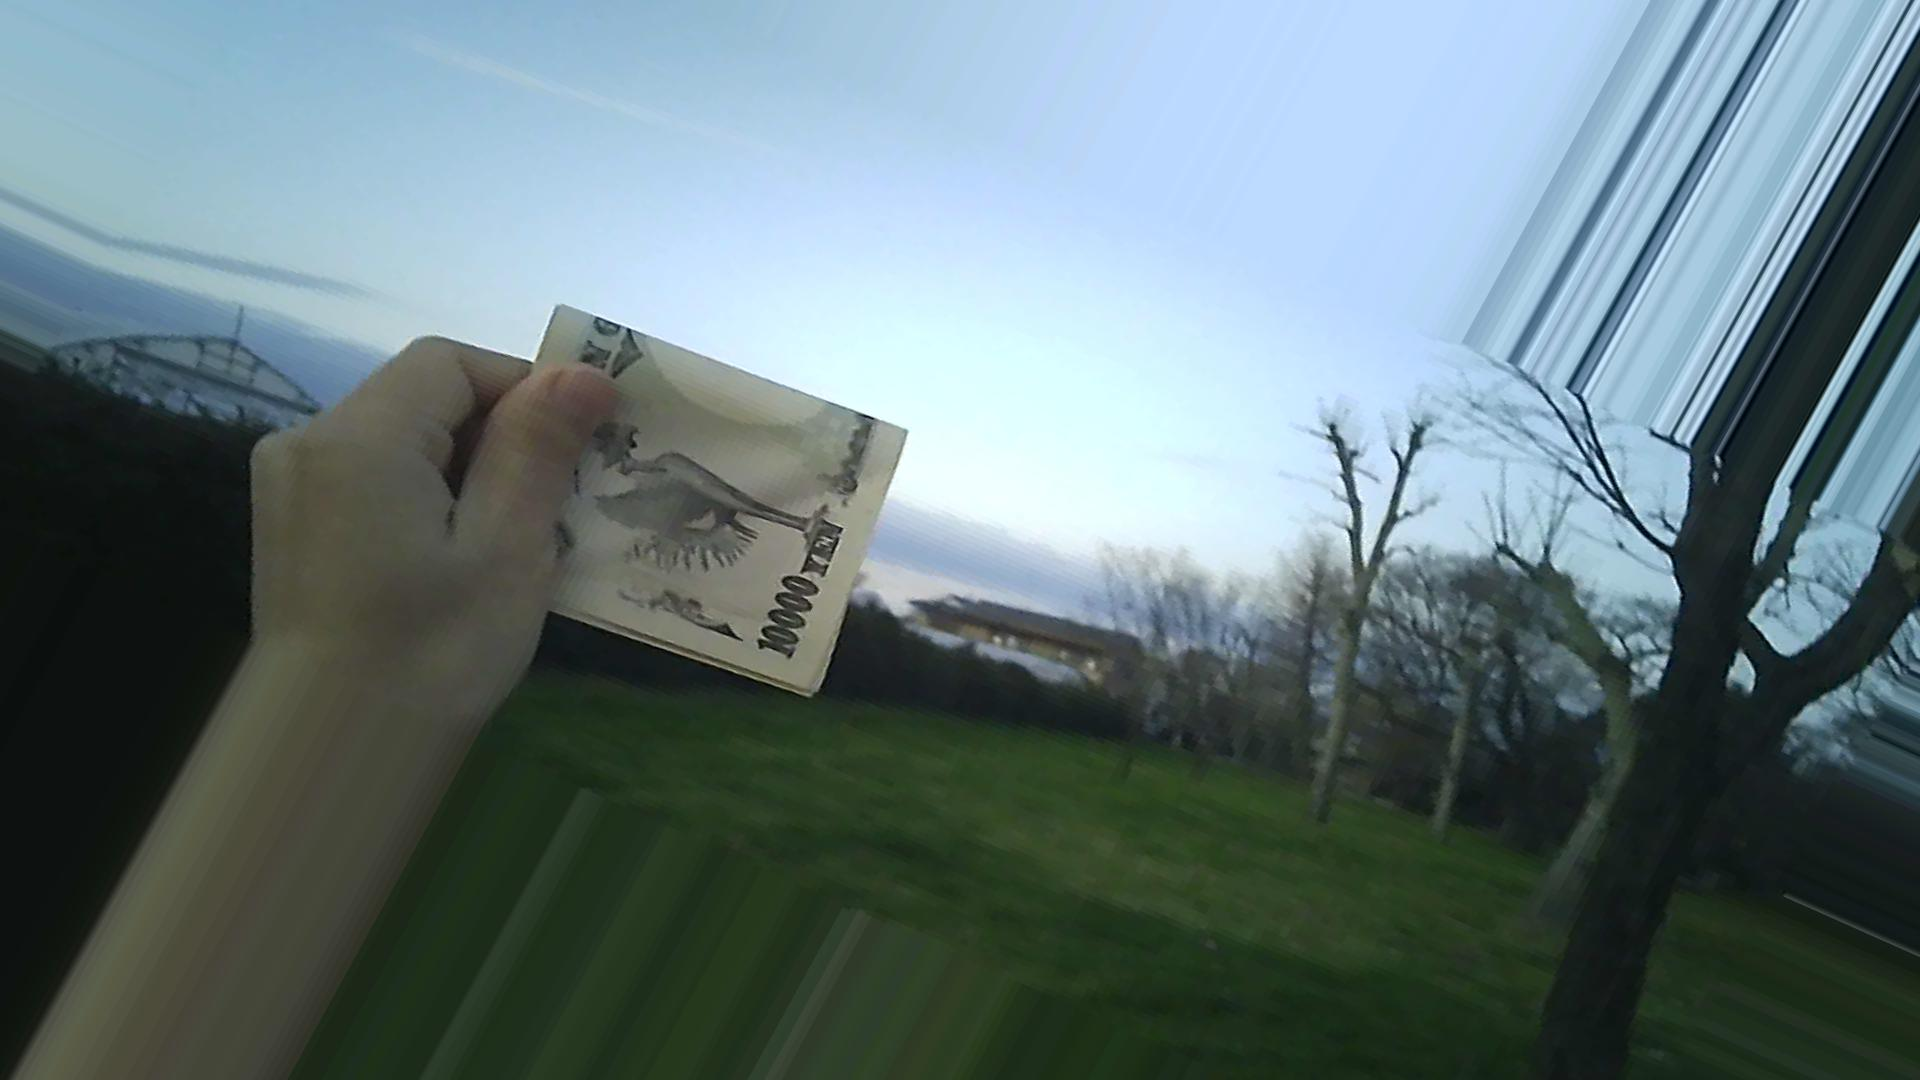10,000 Yen: (497, 306, 932, 716)
